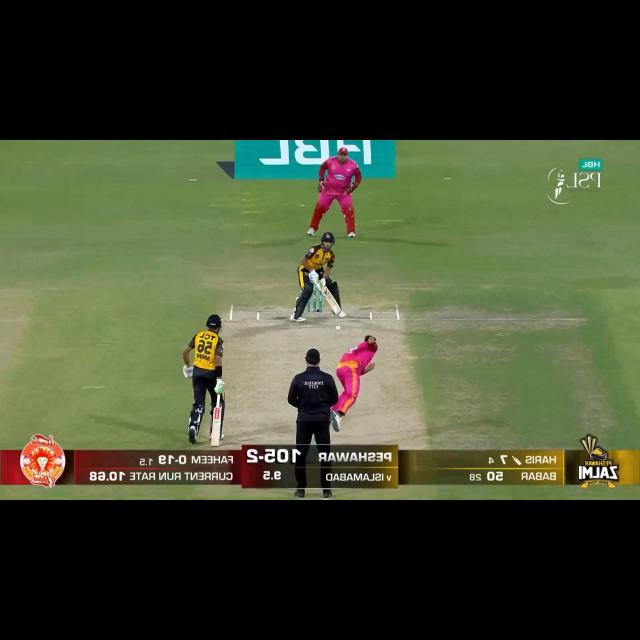bat: (320, 282, 345, 319), (208, 405, 226, 446)
toe: (208, 434, 223, 447), (332, 304, 344, 317)
